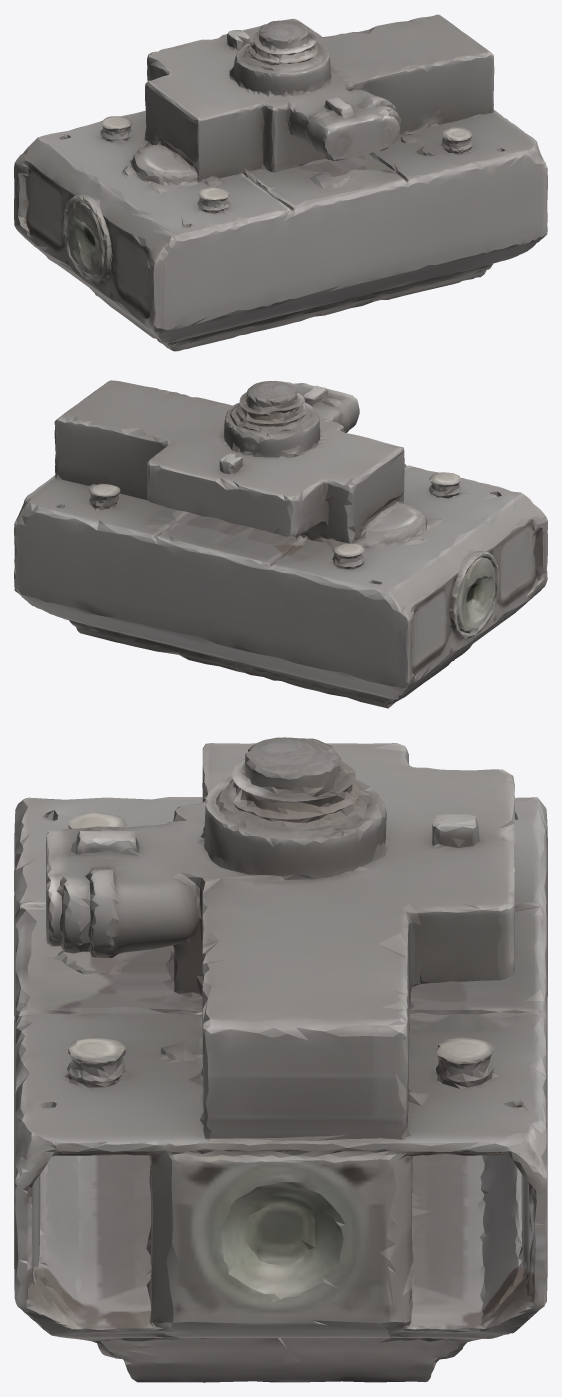
Rendered from phantom_weapon_secondary.glb.
3 renders of one model, top to bottom at view 1: azimuth 30°, elevation 25°; view 2: azimuth 150°, elevation 25°; view 3: azimuth 270°, elevation 25°, orthographic. The views are drawn at different scales.
Visible parts, largest first — view 1: phantom_weapon_secondary; view 2: phantom_weapon_secondary; view 3: phantom_weapon_secondary.
Part boxes in pixels (bbox=[...]): phantom_weapon_secondary: bbox=[14, 14, 547, 351]; phantom_weapon_secondary: bbox=[14, 380, 547, 708]; phantom_weapon_secondary: bbox=[14, 737, 547, 1382].
Bounding box in the file's own units: 1.89 × 1.17 × 1.17.
Materials: 1 (1 with a texture image).
